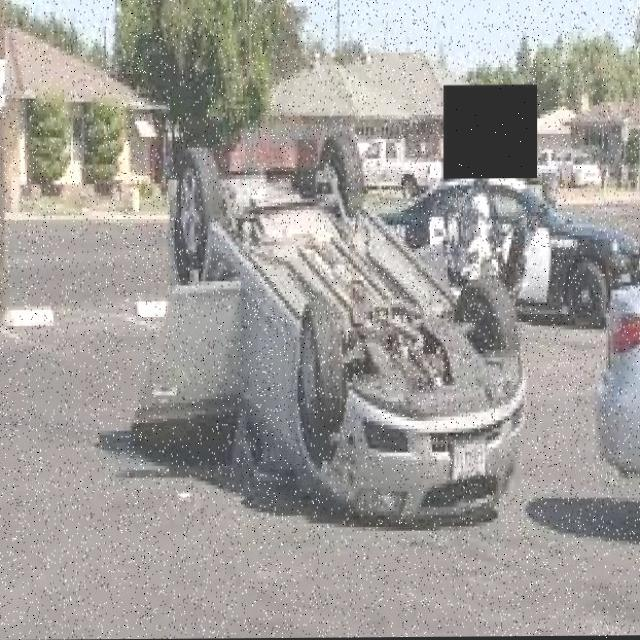single accident: (150, 99, 546, 554)
